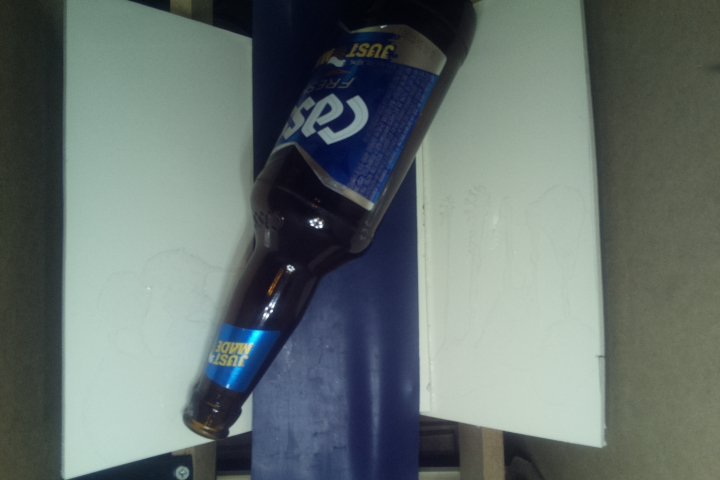makju: (182, 1, 483, 444)
